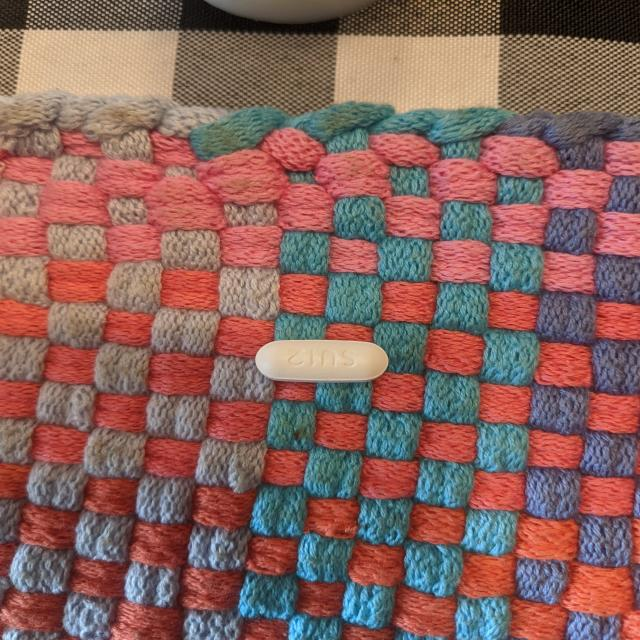non-organic waste: (254, 338, 390, 384)
